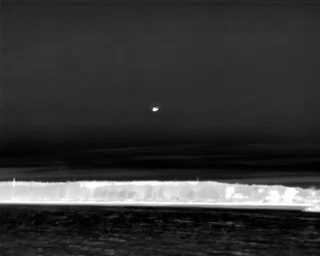HELICOPTER: (149, 103, 162, 117)
